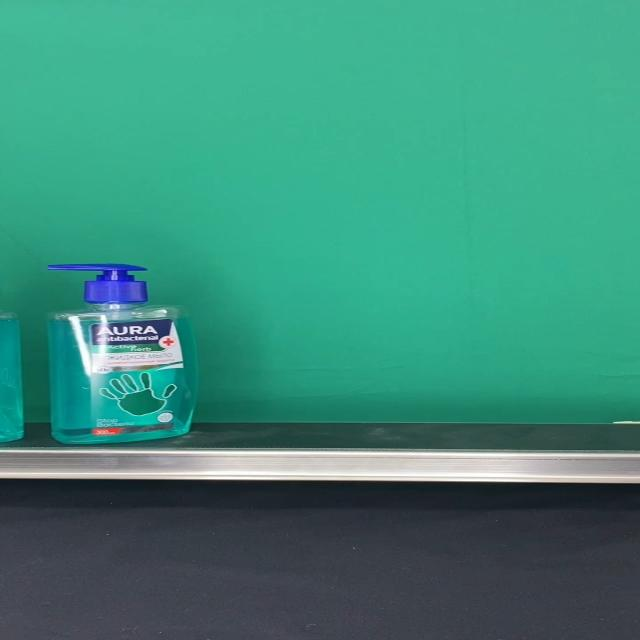Bottle: (45, 264, 198, 445)
Cap: (48, 264, 145, 306)
